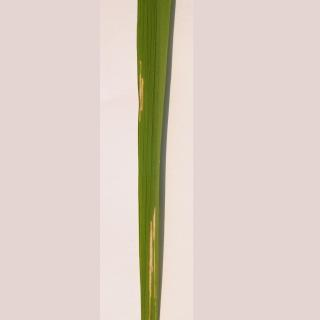Hawar-Daun: (138, 207, 170, 320), (131, 62, 153, 125)
